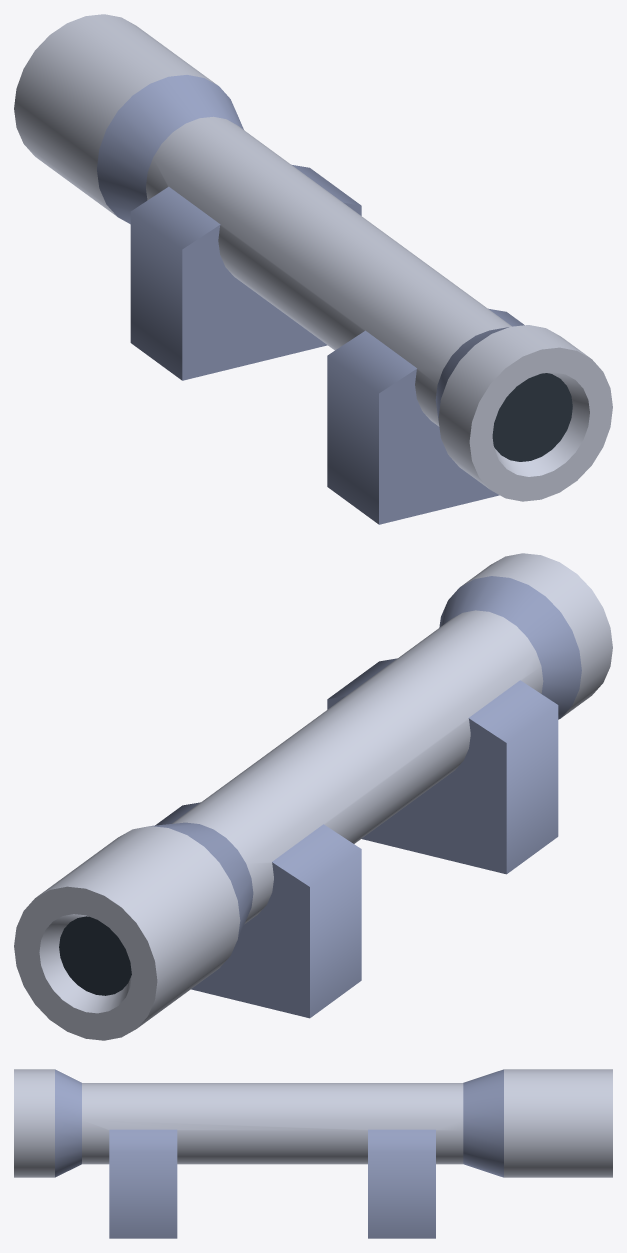
File: scopeB.obj
The picture shows the model from 3 angles, top to bottom: view 1: azimuth 30°, elevation 25°; view 2: azimuth 150°, elevation 25°; view 3: azimuth 270°, elevation 25°; orthographic projection. The views are drawn at different scales.
Visible parts, largest first — view 1: scopeB; view 2: scopeB; view 3: scopeB.
Boxes of the visible parts, x1,y1,x2,y2 form: scopeB: (14,14,612,524); scopeB: (14,553,612,1040); scopeB: (14,1069,612,1238).
Size of the model in its own units: 0.1 by 0.11 by 0.44.
